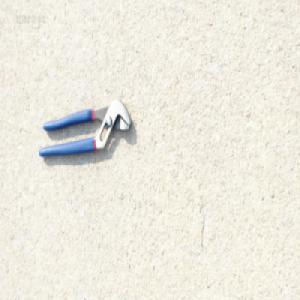Pliers: (38, 97, 132, 160)
